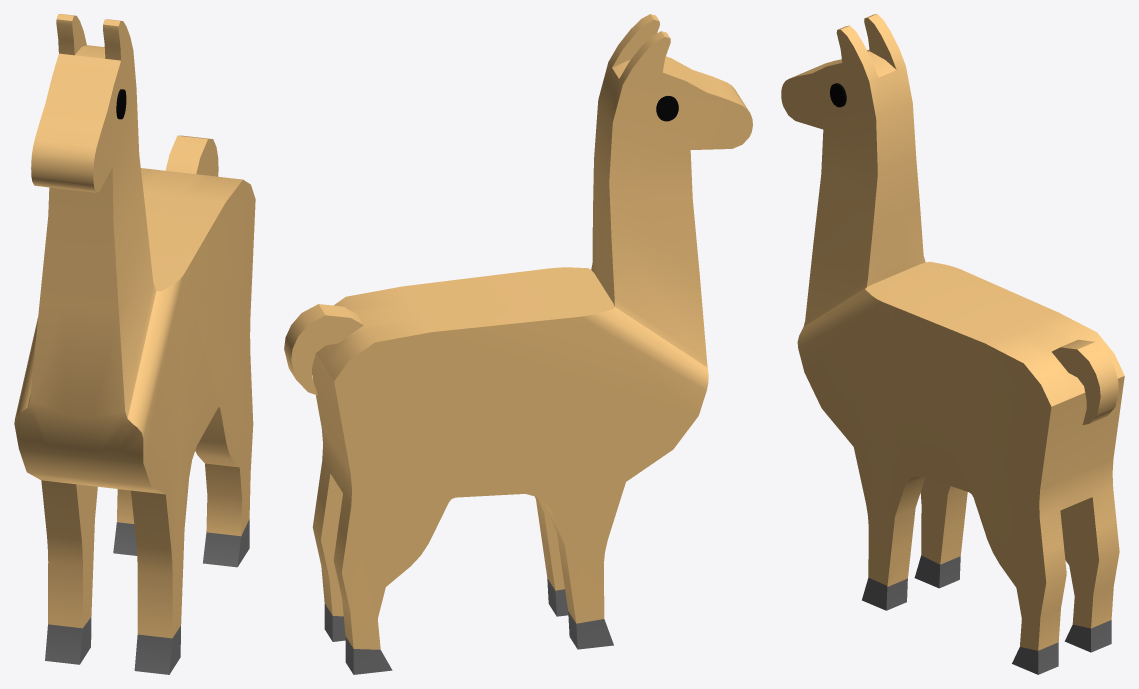
File: llama.fbx
3 renders of one model, left to right at view 1: azimuth 30°, elevation 25°; view 2: azimuth 150°, elevation 25°; view 3: azimuth 270°, elevation 25°, orthographic. The views are drawn at different scales.
Parts seen in each view (by area): view 1: Plane.130; view 2: Plane.130; view 3: Plane.130.
Part boxes in pixels (x1,y1,x2,y2): Plane.130: (14, 14, 255, 674); Plane.130: (284, 14, 752, 674); Plane.130: (781, 14, 1124, 674).
Bounding box in the file's own units: 127 × 223 × 127.
Materials: 1 (1 with a texture image).
